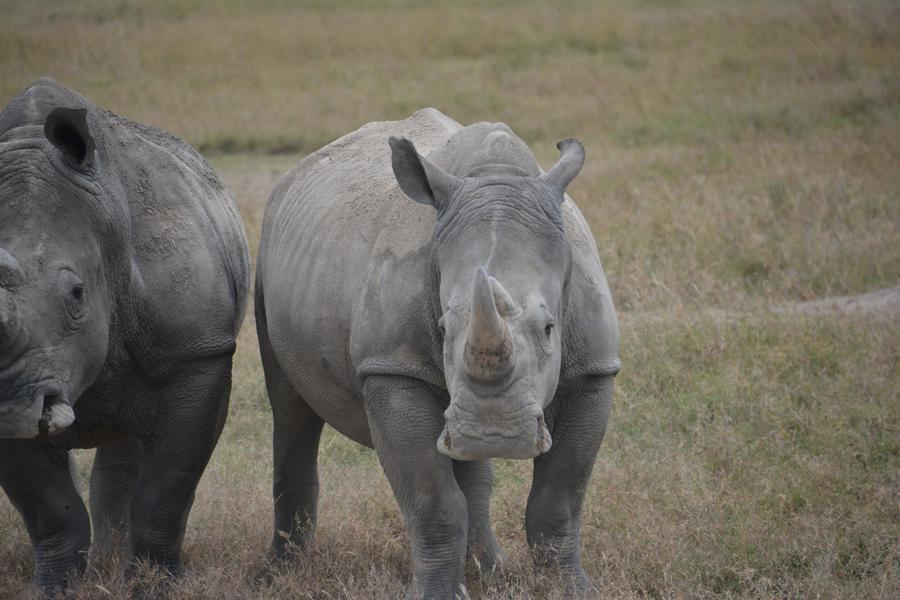rhino: (271, 113, 604, 586), (11, 63, 242, 567)
